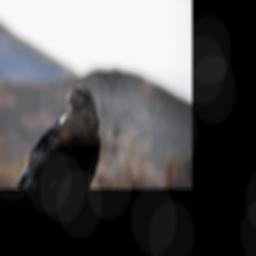Crow: (12, 83, 102, 188)
